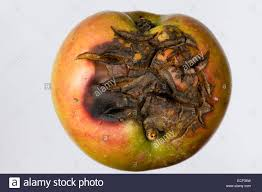damaged_apple: (58, 19, 227, 174)
